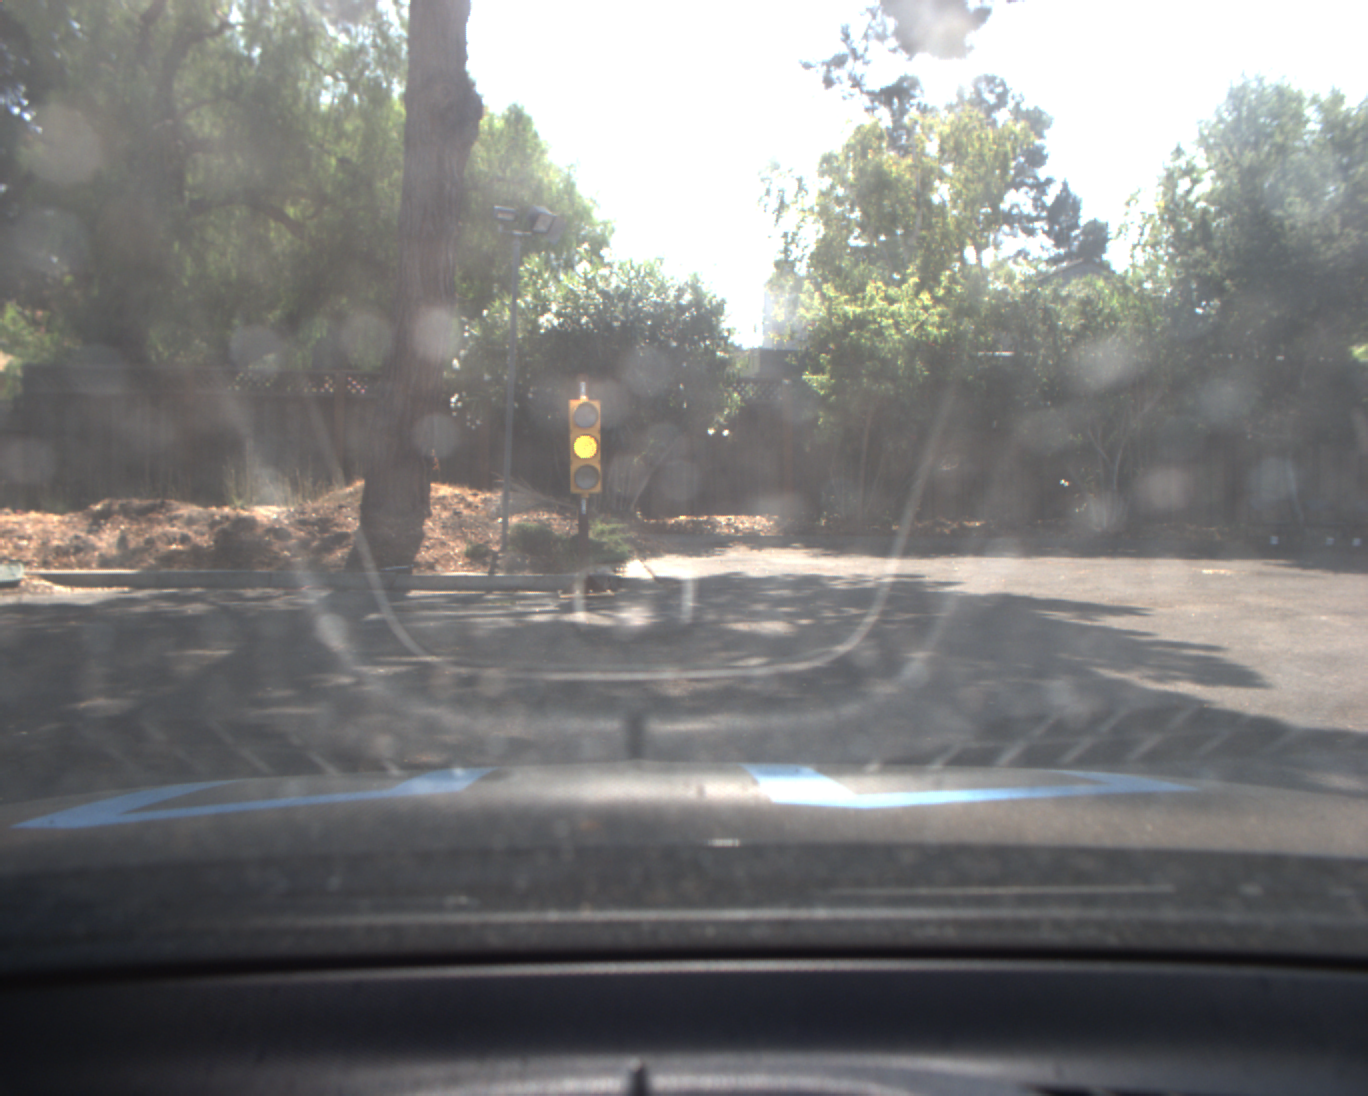yellow: (566, 396, 606, 497)
